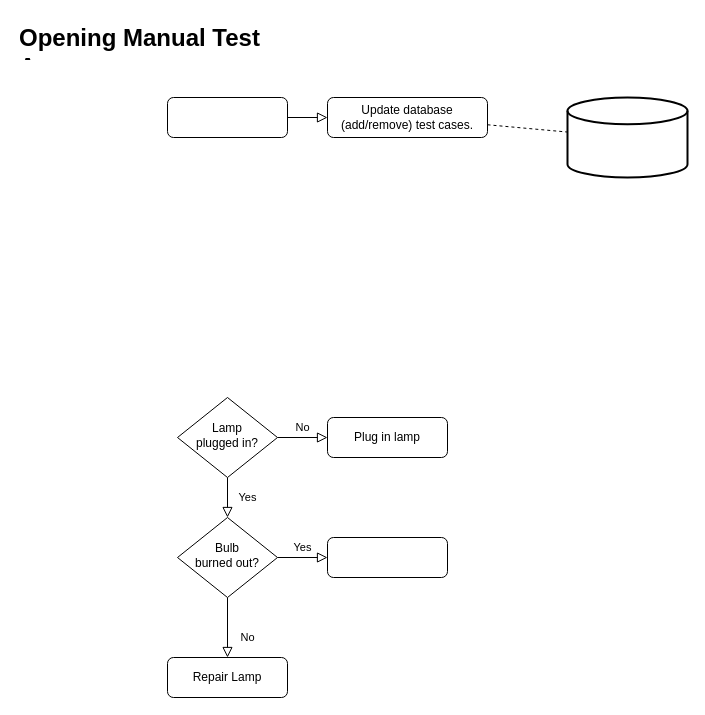
The diagram is 705 pixels wide and 715 high, and some of its shapes have lost their labels. Here are the shapes that lost their labels. From the top down, the box of each, then its label:
(166, 96, 288, 138): Scan test directories for manual_*.py.
(326, 536, 448, 578): Replace Bulb
